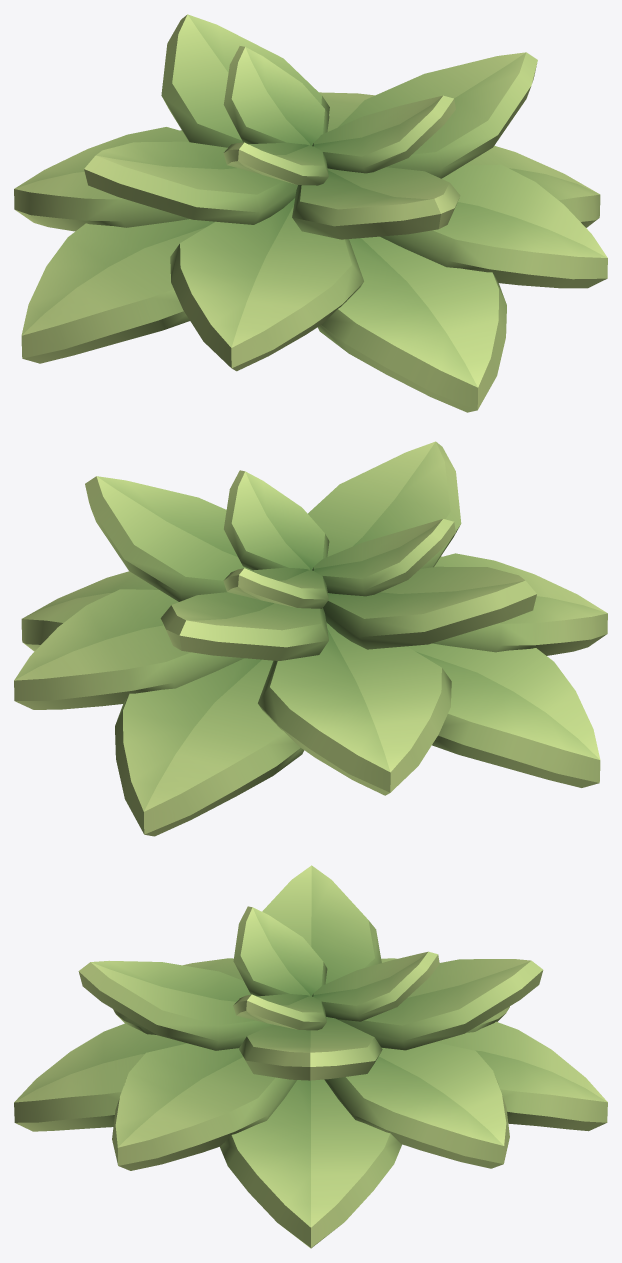
File: Succulent.glb
The picture shows the model from 3 angles, top to bottom: view 1: azimuth 30°, elevation 25°; view 2: azimuth 150°, elevation 25°; view 3: azimuth 270°, elevation 25°; orthographic projection. The views are drawn at different scales.
Visible parts, largest first — view 1: succulent_C; view 2: succulent_C; view 3: succulent_C.
Boxes of the visible parts, bbox=[...] form: succulent_C: bbox=[14, 14, 607, 412]; succulent_C: bbox=[14, 441, 607, 836]; succulent_C: bbox=[14, 865, 607, 1248].
Bounding box in the file's own units: 0.6399 × 0.2155 × 0.6399.
1 material, 1 textured.
